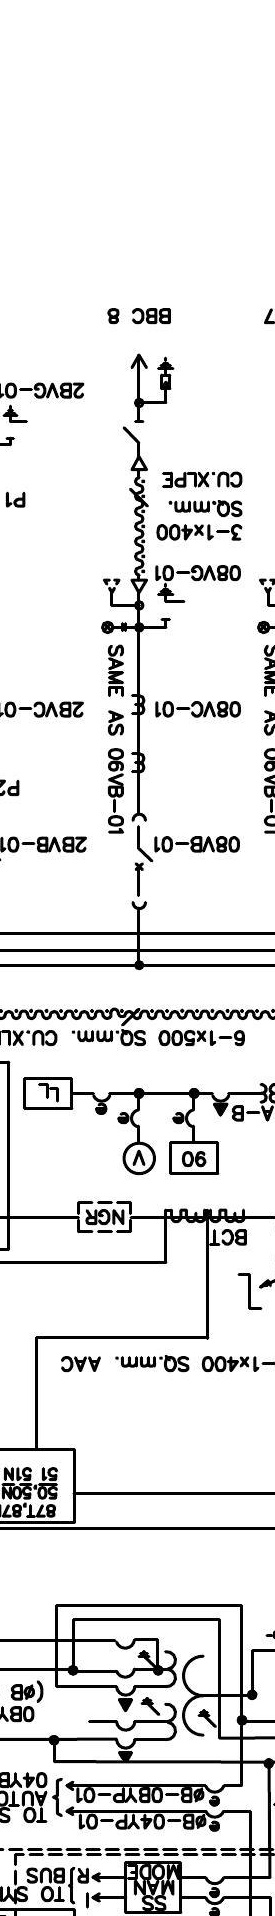115_vt_1p: (114, 1649, 218, 1763)
22_breaker: (130, 812, 154, 911)
22_ds_la_out: (121, 353, 175, 444)
22_gs: (156, 582, 187, 622), (2, 404, 29, 441)
22_ll: (100, 620, 129, 635)
LL: (22, 1076, 75, 1111)
ss_man_mode: (123, 1860, 183, 1915)
terminator_single: (130, 455, 149, 472)
terminator_w_future: (102, 577, 149, 608)
v_m: (122, 1140, 157, 1176)
